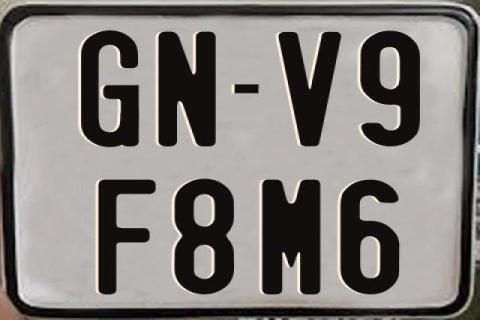0: (359, 31, 423, 149), (171, 176, 234, 293), (340, 180, 401, 296)
F: (97, 177, 155, 293)
G: (80, 31, 140, 150)
M: (259, 179, 322, 295)
N: (158, 31, 222, 149)
V: (279, 32, 342, 147)
